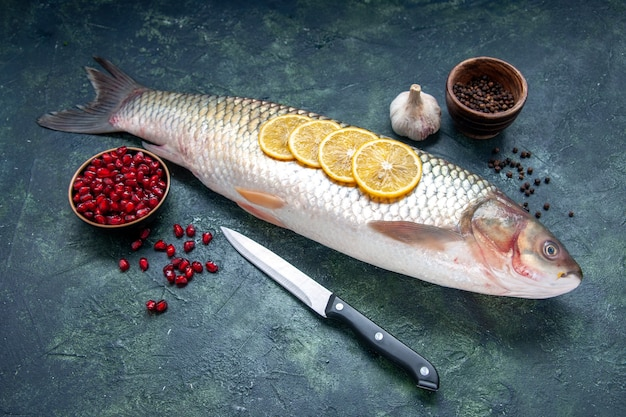knife: (219, 224, 441, 392)
